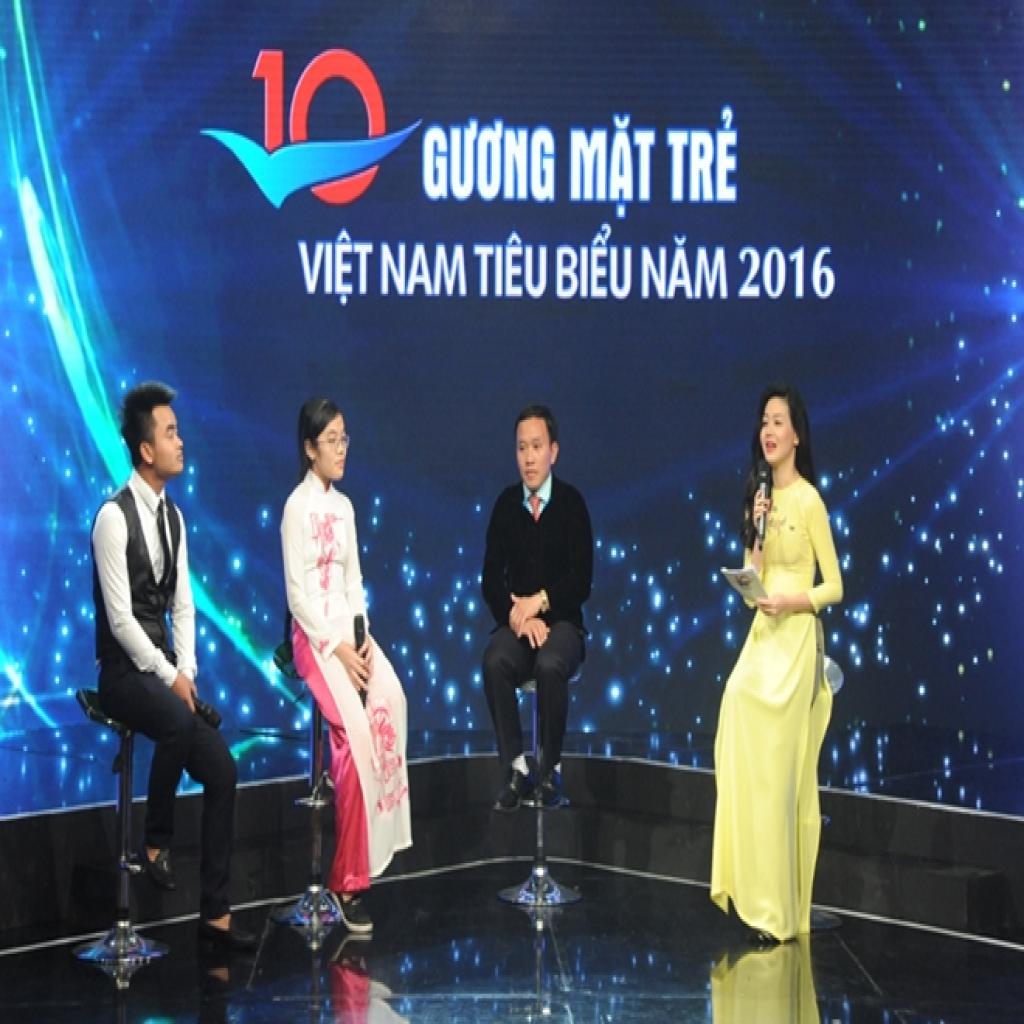text: (248, 44, 390, 210), (422, 116, 559, 208), (566, 110, 658, 222), (663, 103, 740, 205), (295, 224, 377, 310), (554, 222, 634, 306), (737, 240, 839, 303), (641, 233, 732, 303), (472, 229, 550, 303), (379, 240, 470, 301)
